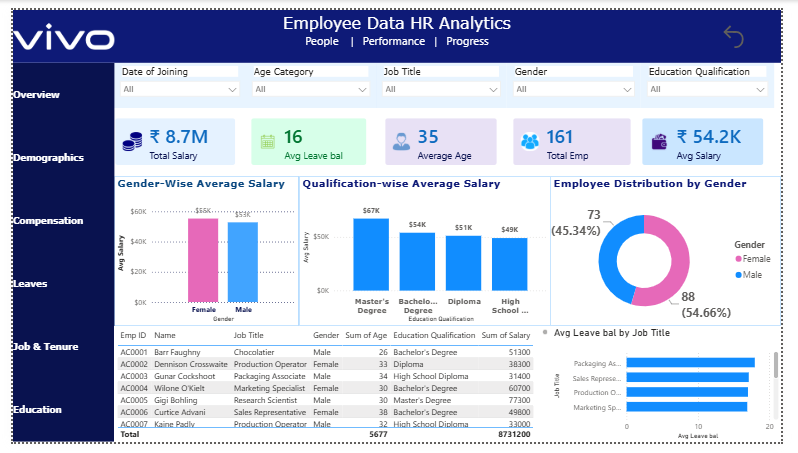

The dashboard page shown, as its layout file describes it:
{"tool":"powerbi","page":{"name":"Overview","canvas":[1280,720],"ordinal":0},"visuals":[{"type":"slicer","fields":{"Values":["employees.Age Category"]},"box":[388.3,88.3,216.7,75],"z":0},{"type":"slicer","fields":{"Values":["employees.Gender"]},"box":[823.3,88.3,223.3,75],"z":1000},{"type":"slicer","fields":{"Values":["employees.Job Title"]},"box":[605,88.3,218.3,75],"z":2000},{"type":"slicer","fields":{"Values":["employees.Education Qualification"]},"box":[1046.7,88.3,221.7,75],"z":3000},{"type":"slicer","fields":{"Values":["employees.Date of Joining"]},"box":[168.3,88.3,220,75],"z":4000},{"type":"cardVisual","fields":{"Data":["employees.Total Salary"]},"box":[153.5,163.9,234.6,112.1],"z":5000},{"type":"cardVisual","fields":{"Data":["employees.Avg Leave bal"]},"box":[380,164,226,112],"z":6000},{"type":"cardVisual","fields":{"Data":["employees.Average Age"]},"box":[604,164,220,112],"z":7000},{"type":"cardVisual","fields":{"Data":["employees.Total Emp"]},"box":[816,164,230,112],"z":8000},{"type":"cardVisual","fields":{"Data":["employees.Avg Salary"]},"box":[1032,164,236,112],"z":9000},{"type":"clusteredColumnChart","title":"Gender-Wise Average Salary","fields":{"Category":["employees.Gender"],"Y":["employees.Avg Salary"]},"box":[168,276,308,250],"z":10000},{"type":"clusteredColumnChart","title":"Qualification-wise Average Salary","fields":{"Category":["employees.Education Qualification"],"Y":["employees.Avg Salary"]},"box":[476,276,420,250],"z":11000},{"type":"donutChart","title":"Employee Distribution by Gender","fields":{"Category":["employees.Gender"],"Y":["employees.Total Emp"]},"box":[895.3,276,384.7,250.1],"z":12000},{"type":"actionButton","box":[1221.7,670,58.3,50],"z":13000},{"type":"pageNavigator","box":[0,88,169.1,631.4],"z":14000},{"type":"tableEx","fields":{"Values":["employees.Emp ID","employees.Name","employees.Job Title","employees.Gender","Sum(employees.Age)","employees.Education Qualification","Sum(employees.Salary)"]},"box":[168,526,728,194],"z":15000},{"type":"clusteredBarChart","fields":{"Y":["employees.Avg Leave bal"],"Category":["employees.Job Title"]},"box":[896,526,384,194],"z":16000},{"type":"textbox","box":[0,0,1280,88],"z":17000},{"type":"image","box":[0,0,169.1,88],"z":18000},{"type":"actionButton","box":[1167.9,12.1,100.1,65.6],"z":19000}]}

Visuals, with their boxes in screenshot pixels (x1, y1, x2, y2), scaled from the page's 1280x720 canvas onto the 798x453 screenshot:
slicer - employees.Age Category: box=[242, 56, 377, 103]
slicer - employees.Gender: box=[513, 56, 652, 103]
slicer - employees.Job Title: box=[377, 56, 513, 103]
slicer - employees.Education Qualification: box=[653, 56, 791, 103]
slicer - employees.Date of Joining: box=[105, 56, 242, 103]
cardVisual - employees.Total Salary: box=[96, 103, 242, 174]
cardVisual - employees.Avg Leave bal: box=[237, 103, 378, 174]
cardVisual - employees.Average Age: box=[377, 103, 514, 174]
cardVisual - employees.Total Emp: box=[509, 103, 652, 174]
cardVisual - employees.Avg Salary: box=[643, 103, 791, 174]
"Gender-Wise Average Salary" clusteredColumnChart: box=[105, 174, 297, 331]
"Qualification-wise Average Salary" clusteredColumnChart: box=[297, 174, 559, 331]
"Employee Distribution by Gender" donutChart: box=[558, 174, 797, 331]
actionButton: box=[762, 422, 797, 452]
pageNavigator: box=[0, 55, 105, 452]
tableEx - employees.Emp ID x employees.Name: box=[105, 331, 559, 452]
clusteredBarChart - employees.Avg Leave bal x employees.Job Title: box=[559, 331, 797, 452]
textbox: box=[0, 0, 797, 55]
image: box=[0, 0, 105, 55]
actionButton: box=[728, 8, 791, 49]
